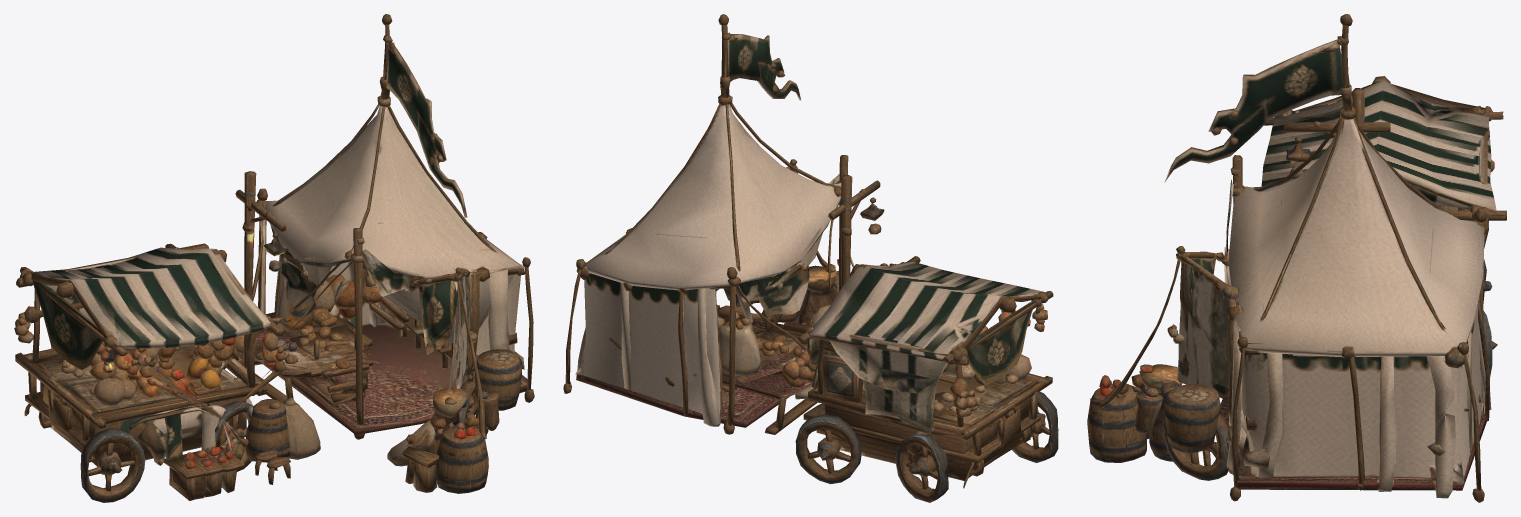
Rendered from green valley marktplatz-web.glb.
3 views of the same model, side by side, from view 1: azimuth 30°, elevation 25°; view 2: azimuth 150°, elevation 25°; view 3: azimuth 270°, elevation 25° (orthographic). The views are drawn at different scales.
Bounding box in the file's own units: 1 × 0.8965 × 0.7383.
Materials: 1 (1 with a texture image).
